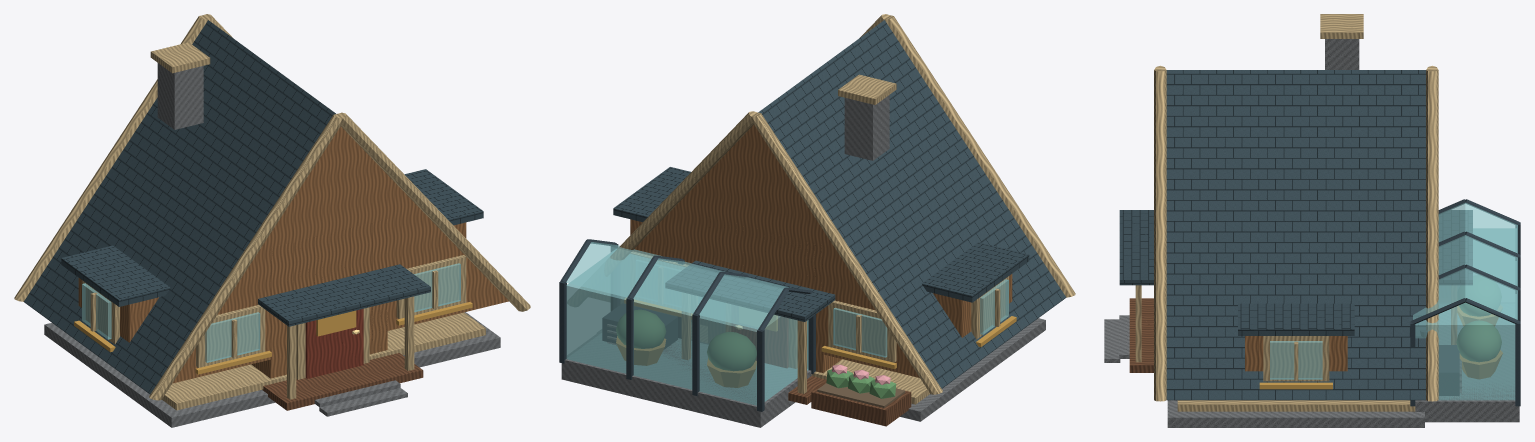
The model's file is house_aframe_lv4_greenhouse.glb.
3 renders of one model, left to right at view 1: azimuth 30°, elevation 25°; view 2: azimuth 150°, elevation 25°; view 3: azimuth 270°, elevation 25°, orthographic. The views are drawn at different scales.
Visible parts, largest first — view 1: steep_roof, a_frame_gables, walls, foundation, front_porch_canopy, floor_trim, a_frame_edge, left_dormer_cap, front_deck, a_frame_edge.002, a_frame_edge.001, front_window_frame (+18 smaller); view 2: steep_roof, greenhouse_glazing, a_frame_gables, greenhouse_roof, greenhouse_plinth, back_porch_canopy, a_frame_edge.001, left_dormer_cap, a_frame_edge, back_window_frame, chimney, a_frame_edge.003 (+24 smaller); view 3: steep_roof.001, greenhouse_glazing, greenhouse_roof, foundation, a_frame_edge.002, a_frame_edge.003, right_dormer_cap, greenhouse_plinth, right_window_frame, floor_trim, front_porch_canopy, back_porch_canopy (+13 smaller).
Boxes of the visible parts, left/top/right/bottom form: steep_roof: left=24, top=20, right=335, bottom=394; a_frame_gables: left=172, top=126, right=508, bottom=383; walls: left=251, top=219, right=387, bottom=378; foundation: left=44, top=312, right=500, bottom=427; front_porch_canopy: left=258, top=264, right=430, bottom=326; floor_trim: left=162, top=312, right=485, bottom=410; a_frame_edge: left=149, top=114, right=342, bottom=400; left_dormer_cap: left=61, top=245, right=170, bottom=306; front_deck: left=262, top=353, right=423, bottom=410; a_frame_edge.002: left=337, top=112, right=530, bottom=311; a_frame_edge.001: left=14, top=15, right=207, bottom=301; front_window_frame: left=196, top=305, right=265, bottom=367; steep_roof: left=758, top=20, right=1066, bottom=388; greenhouse_glazing: left=566, top=249, right=808, bottom=405; a_frame_gables: left=632, top=125, right=919, bottom=377; greenhouse_roof: left=566, top=242, right=788, bottom=329; greenhouse_plinth: left=561, top=339, right=811, bottom=427; back_porch_canopy: left=665, top=260, right=835, bottom=321; a_frame_edge.001: left=752, top=112, right=942, bottom=394; left_dormer_cap: left=921, top=242, right=1029, bottom=302; a_frame_edge: left=885, top=15, right=1075, bottom=297; back_window_frame: left=828, top=300, right=896, bottom=362; chimney: left=844, top=95, right=889, bottom=160; a_frame_edge.003: left=610, top=111, right=757, bottom=260; steep_roof.001: left=1166, top=70, right=1425, bottom=400; greenhouse_glazing: left=1415, top=228, right=1516, bottom=400; greenhouse_roof: left=1413, top=202, right=1517, bottom=319; foundation: left=1167, top=400, right=1424, bottom=427; a_frame_edge.002: left=1154, top=70, right=1166, bottom=401; a_frame_edge.003: left=1426, top=70, right=1438, bottom=401; right_dormer_cap: left=1238, top=303, right=1354, bottom=335; greenhouse_plinth: left=1411, top=383, right=1519, bottom=422; right_window_frame: left=1263, top=336, right=1329, bottom=381; floor_trim: left=1177, top=400, right=1415, bottom=411; front_porch_canopy: left=1119, top=210, right=1153, bottom=285; back_porch_canopy: left=1439, top=210, right=1472, bottom=284.
Size of the model in its own units: 6.6 by 4.75 by 6.19.
Materials: 13 (7 with a texture image).
